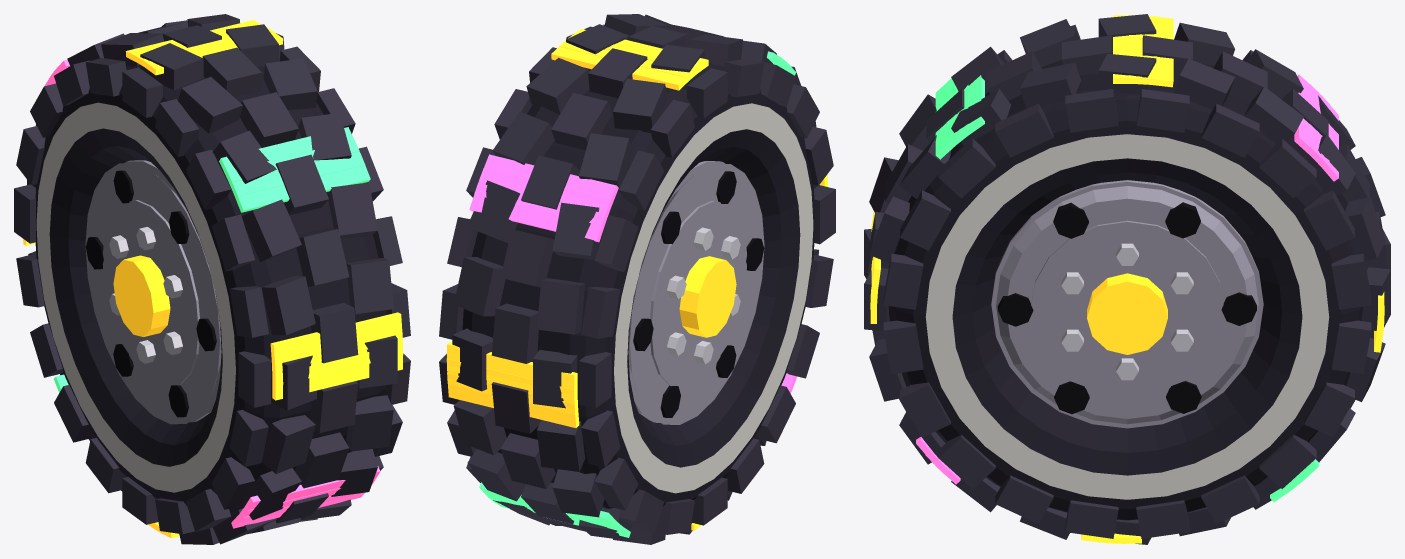
File: tyre-danfo.glb
3 renders of one model, left to right at view 1: azimuth 30°, elevation 25°; view 2: azimuth 150°, elevation 25°; view 3: azimuth 270°, elevation 25°, orthographic.
Visible parts, largest first — view 1: tyre; view 2: tyre; view 3: tyre.
Boxes of the visible parts, x1,y1,x2,y2 form: tyre: (14, 14, 410, 544); tyre: (439, 14, 835, 544); tyre: (864, 14, 1390, 544).
Size of the model in its own units: 0.2271 by 0.6418 by 0.6502.
